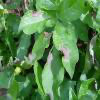Potato leaf late blight: (52, 23, 79, 81), (23, 28, 54, 68), (43, 45, 64, 99), (16, 10, 54, 35)
